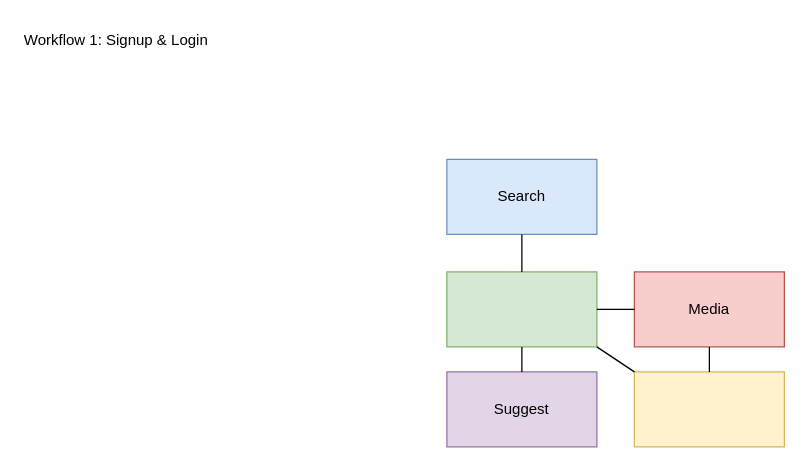
Some shapes in this 806 by 469 pixel diagram are drawn without their labels. Here are the shapes that lost their labels. From the top down, the centre of each, then its label:
pixel 521 309: Auth
pixel 708 409: User
